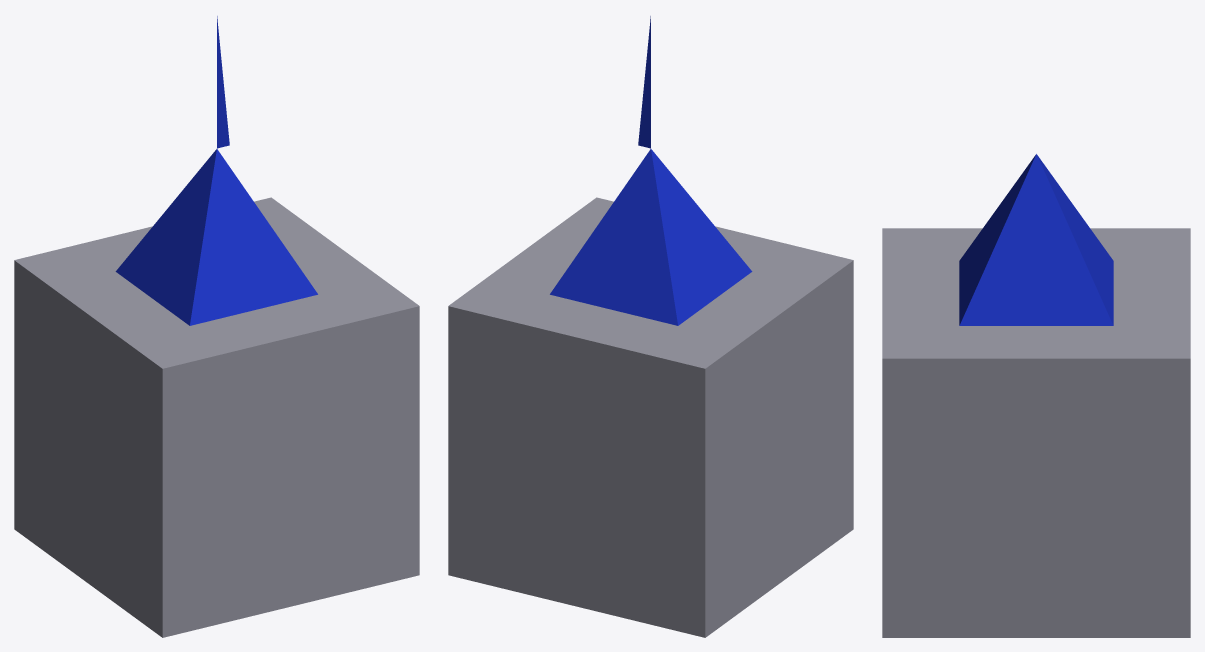
Rendered from robot.obj.
3 views of the same model, side by side, from view 1: azimuth 30°, elevation 25°; view 2: azimuth 150°, elevation 25°; view 3: azimuth 270°, elevation 25° (orthographic). The views are drawn at different scales.
Visible parts, largest first — view 1: Body, Head; view 2: Body, Head; view 3: Body, Head.
Boxes of the visible parts, x1,y1,x2,y2 form: Body: (14,197,419,637); Head: (115,16,317,325); Body: (448,197,853,637); Head: (550,16,752,325); Body: (882,228,1190,637); Head: (959,154,1113,325).
Size of the model in its own units: 2 by 4 by 2.
